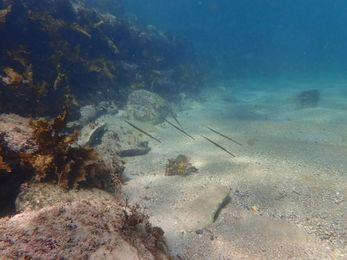Fistularia commersonii: (117, 117, 175, 158), (200, 125, 252, 170), (146, 103, 201, 142)
